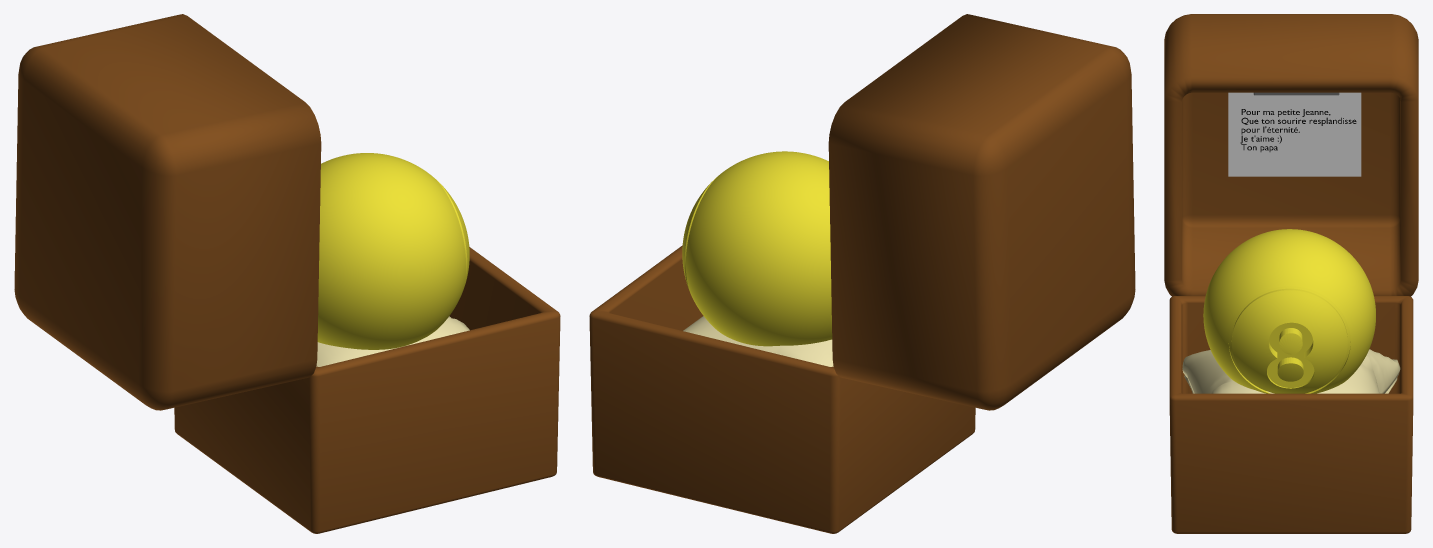
3 renders of one model, left to right at view 1: azimuth 30°, elevation 25°; view 2: azimuth 150°, elevation 25°; view 3: azimuth 270°, elevation 25°, orthographic. The views are drawn at different scales.
Parts seen in each view (by area): view 1: box, Boule; view 2: box, Boule; view 3: box, Boule, Plane, Text, Plane.001.
Part boxes in pixels (left/top/right/bottom): box: left=14, top=14, right=560, bottom=533; Boule: left=317, top=153, right=469, bottom=349; box: left=589, top=14, right=1135, bottom=533; Boule: left=682, top=151, right=832, bottom=346; box: left=1164, top=14, right=1418, bottom=533; Boule: left=1203, top=229, right=1375, bottom=393; Plane: left=1228, top=92, right=1361, bottom=176; Text: left=1240, top=109, right=1356, bottom=151; Plane.001: left=1253, top=92, right=1339, bottom=95.
Size of the model in its own units: 366 by 364 by 232.
